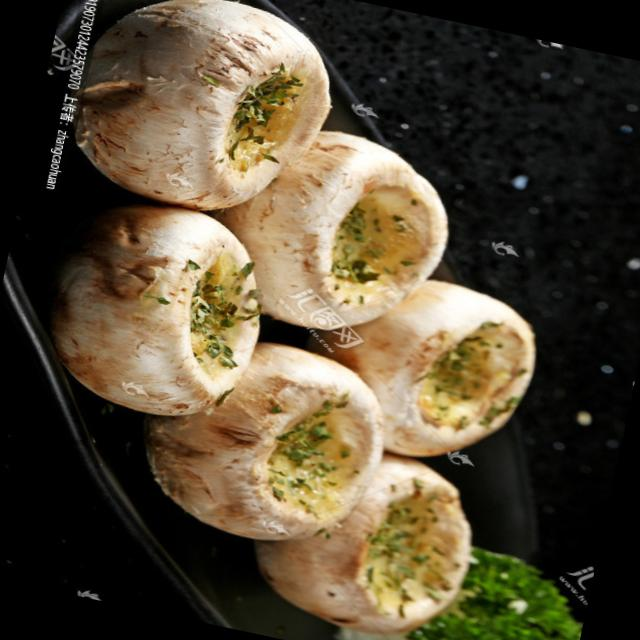Agaricus bisporus: (58, 0, 343, 231), (138, 331, 390, 557), (227, 116, 465, 353), (44, 192, 272, 430), (246, 434, 486, 640), (335, 266, 546, 474)
